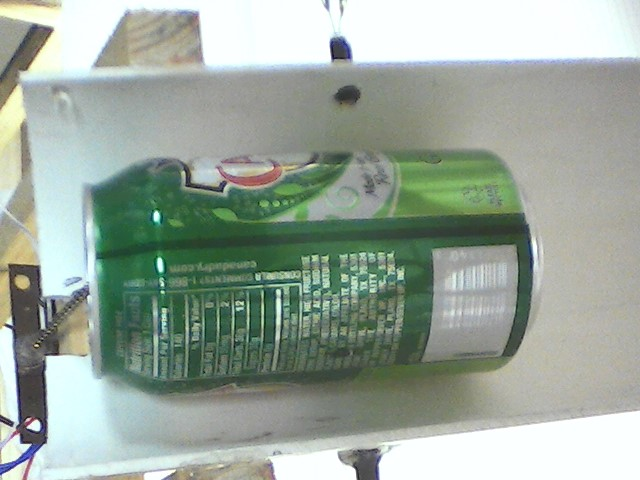lata: (80, 145, 553, 400)
